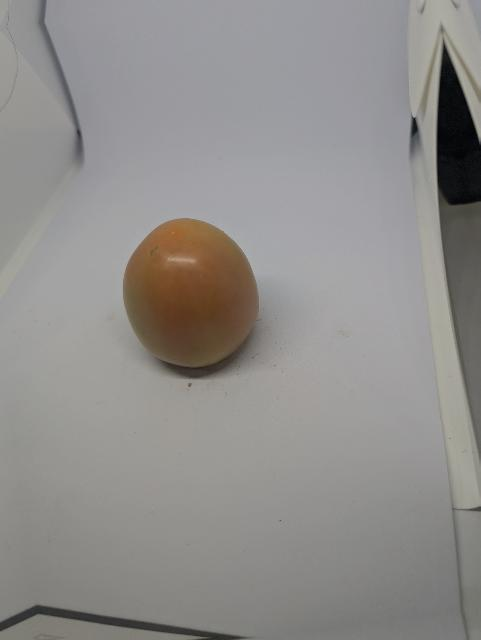turning: (112, 219, 269, 374)
